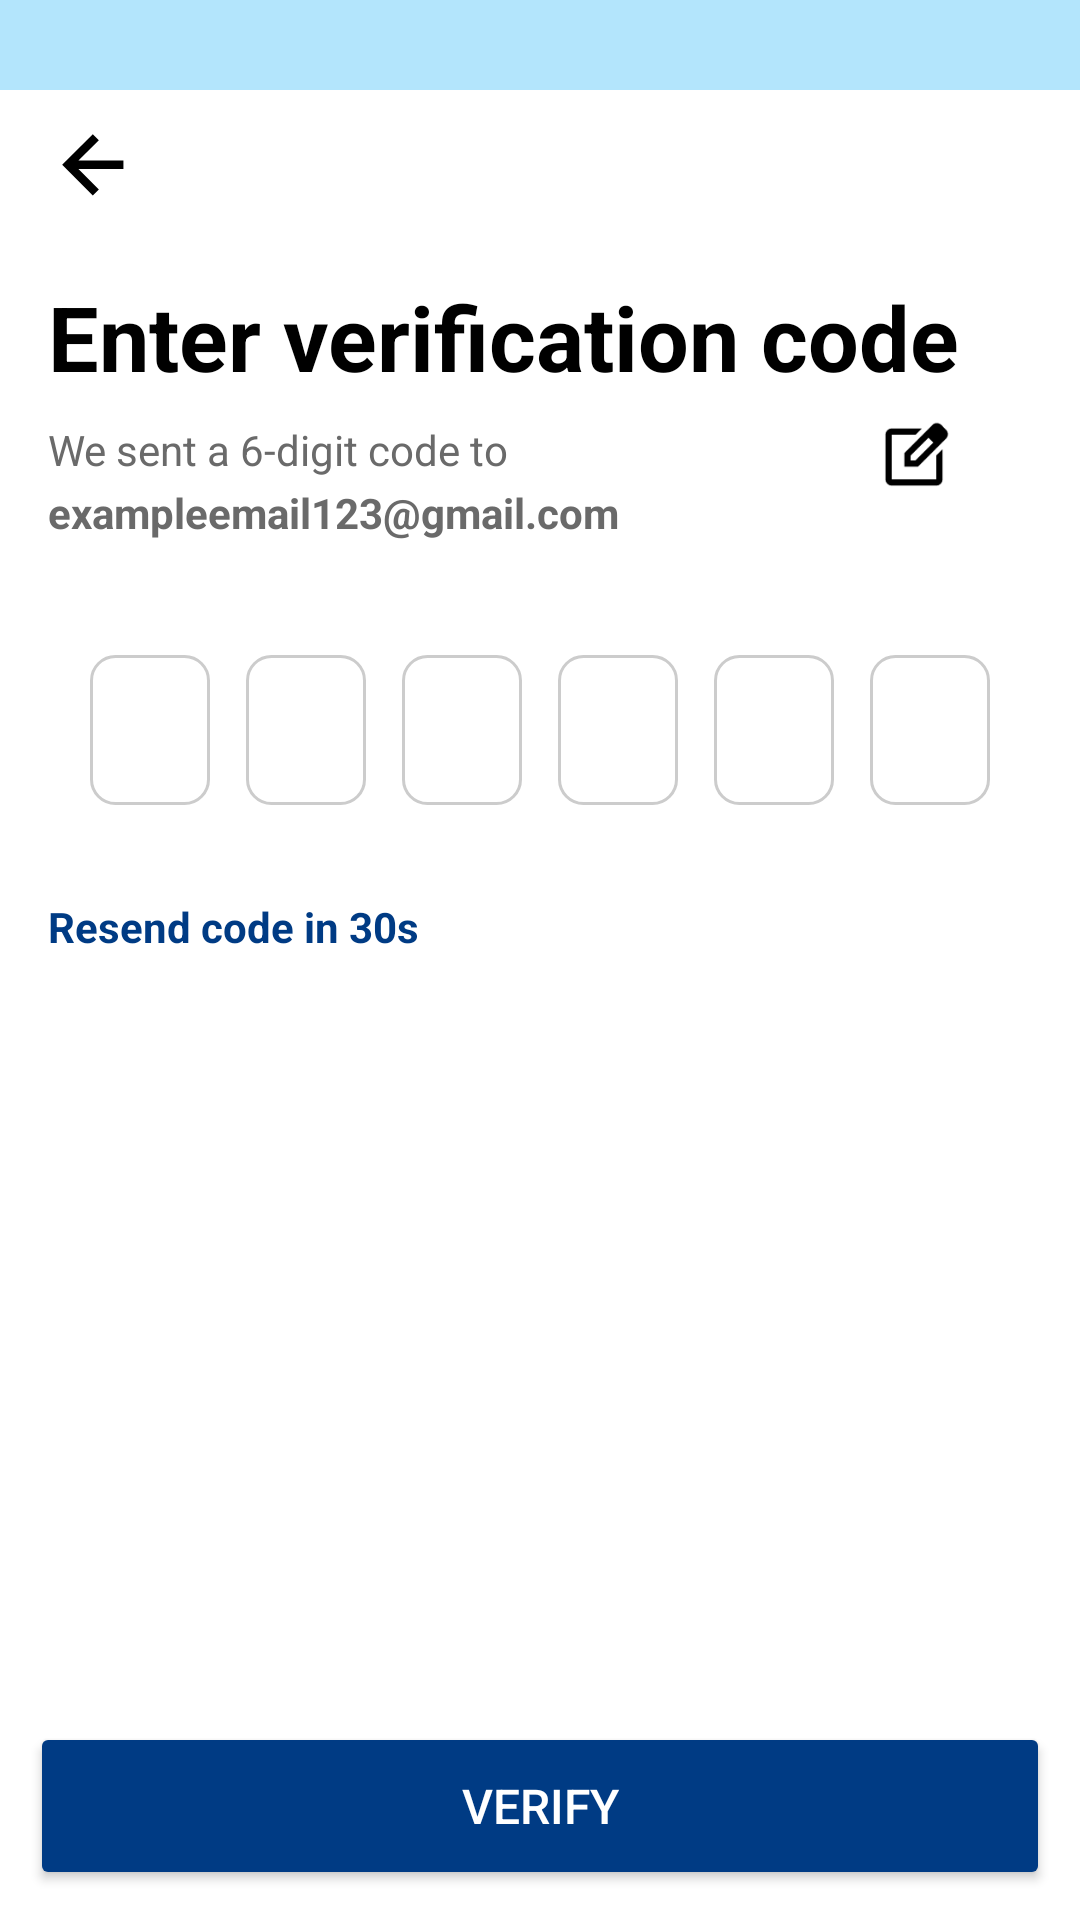

Point at icon controls on the screen. Image size 1080*1920, points as (x=x, y=y).
Back: (x=93, y=165)
Edit Email: (x=917, y=454)
